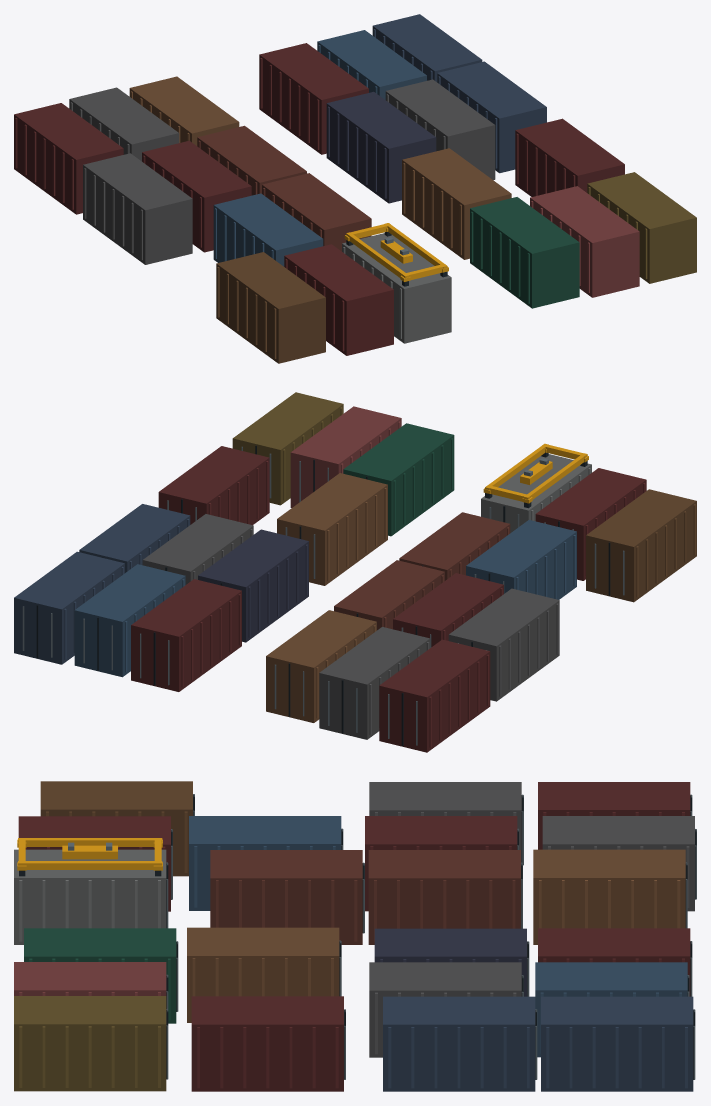
Rendered from containers-n-s-01.glb.
The picture shows the model from 3 angles, top to bottom: view 1: azimuth 30°, elevation 25°; view 2: azimuth 150°, elevation 25°; view 3: azimuth 270°, elevation 25°; orthographic projection. The views are drawn at different scales.
Visible parts, largest first — view 1: containers-n-s-01; view 2: containers-n-s-01; view 3: containers-n-s-01.
Boxes of the visible parts, bbox=[...] form: containers-n-s-01: bbox=[14, 14, 696, 363]; containers-n-s-01: bbox=[14, 392, 696, 752]; containers-n-s-01: bbox=[14, 781, 696, 1091].
Bounding box in the file's own units: 50.24 × 8.25 × 59.18.
